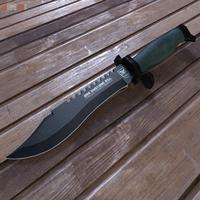knife: (4, 25, 185, 161)
